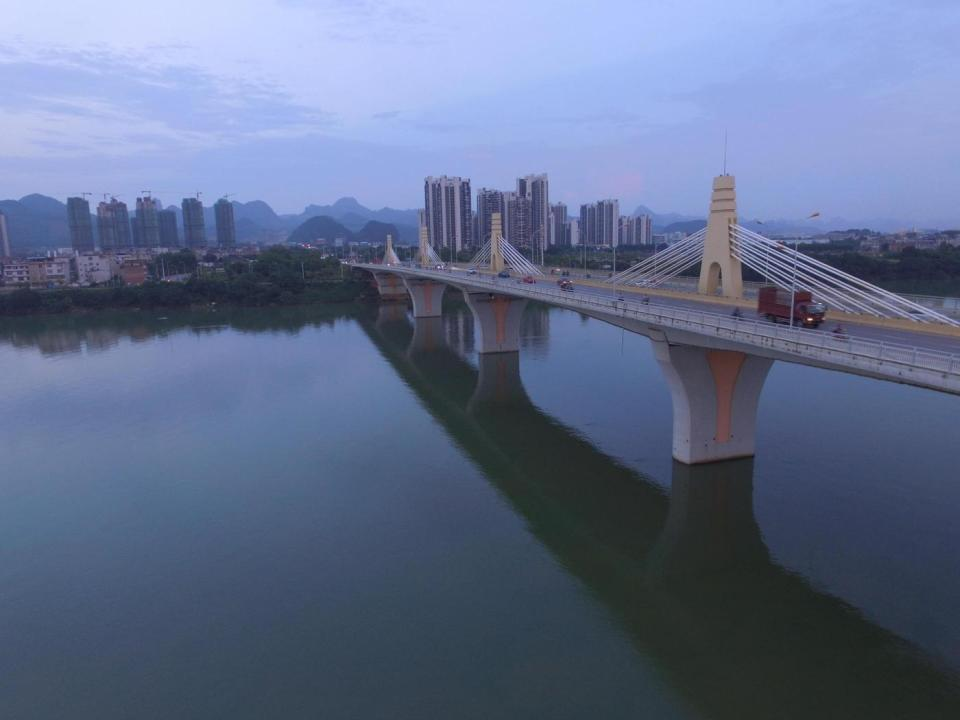bus: (405, 258, 415, 265)
car: (904, 309, 946, 322), (634, 279, 654, 287), (557, 277, 572, 286), (523, 276, 536, 283), (499, 270, 510, 277), (434, 264, 446, 270), (466, 268, 477, 274), (480, 265, 488, 269), (416, 263, 421, 268), (370, 262, 373, 265)
van: (757, 286, 829, 329), (373, 257, 382, 265)
